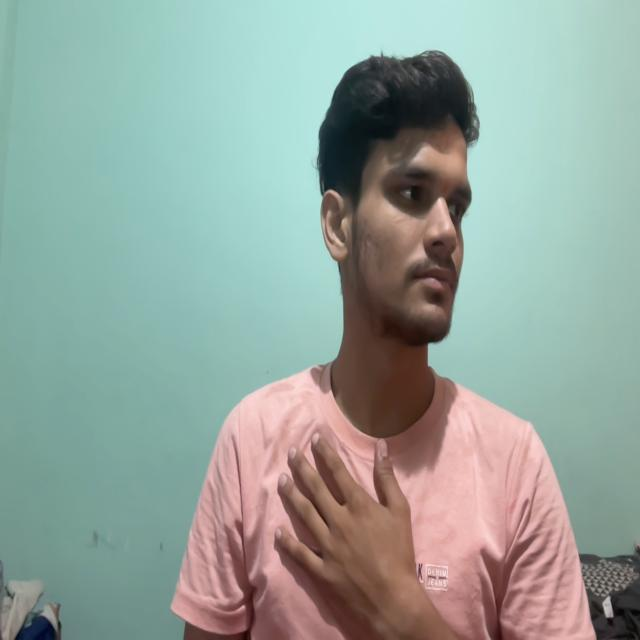Please: (256, 392, 456, 640)
